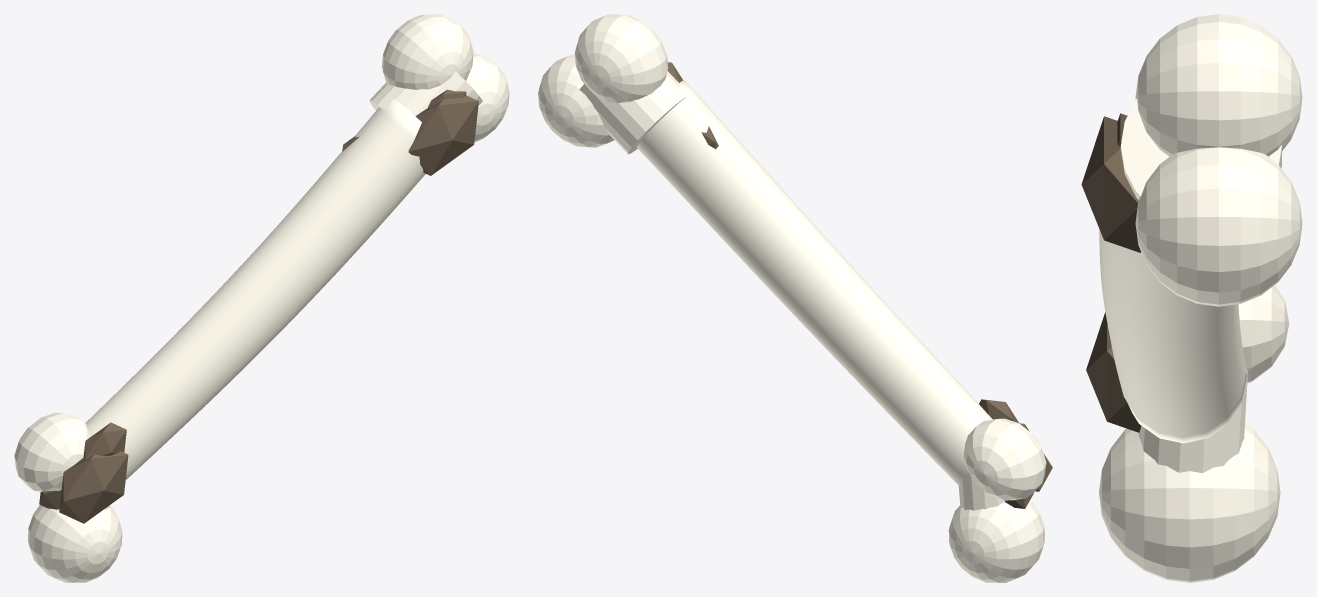
The model's file is BONE.glb.
3 renders of one model, left to right at view 1: azimuth 30°, elevation 25°; view 2: azimuth 150°, elevation 25°; view 3: azimuth 270°, elevation 25°, orthographic. The views are drawn at different scales.
Visible parts, largest first — view 1: BONE_shaft, BONE_head, BONE_cond1, BONE_troch, BONE_crust0.1_2, BONE_crust-0.2_1, BONE_cond-1, BONE_distlink, BONE_crust-0.2_3; view 2: BONE_shaft, BONE_cond1, BONE_head, BONE_troch, BONE_cond-1, BONE_distlink, BONE_neck; view 3: BONE_cond-1, BONE_head, BONE_shaft, BONE_cond1, BONE_crust0.1_2, BONE_neck, BONE_troch, BONE_crust-0.2_1, BONE_distlink.
Part boxes in pixels (x1,y1,x2,y2): BONE_shaft: [85, 98, 425, 479]; BONE_head: [28, 505, 122, 582]; BONE_cond1: [382, 14, 473, 89]; BONE_troch: [14, 413, 88, 491]; BONE_crust0.1_2: [408, 95, 478, 175]; BONE_crust-0.2_1: [59, 451, 128, 523]; BONE_cond-1: [466, 53, 509, 142]; BONE_distlink: [369, 71, 482, 115]; BONE_crust-0.2_3: [83, 422, 126, 459]; BONE_shaft: [636, 80, 992, 485]; BONE_cond1: [575, 14, 668, 103]; BONE_head: [948, 501, 1044, 582]; BONE_troch: [963, 418, 1046, 500]; BONE_cond-1: [538, 54, 613, 147]; BONE_distlink: [579, 71, 686, 154]; BONE_neck: [958, 471, 1004, 510]; BONE_cond-1: [1135, 147, 1302, 306]; BONE_head: [1099, 422, 1280, 582]; BONE_shaft: [1099, 114, 1246, 443]; BONE_cond1: [1135, 14, 1302, 156]; BONE_crust0.1_2: [1081, 116, 1140, 252]; BONE_neck: [1138, 369, 1247, 473]; BONE_troch: [1238, 285, 1289, 383]; BONE_crust-0.2_1: [1086, 312, 1141, 432]; BONE_distlink: [1120, 99, 1281, 199].
Bounding box in the file's own units: 0.3651 × 0.3358 × 0.0754.
